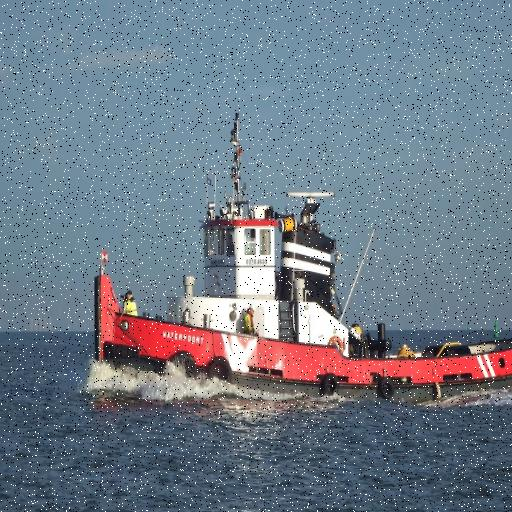tugboat: (90, 185, 512, 415)
